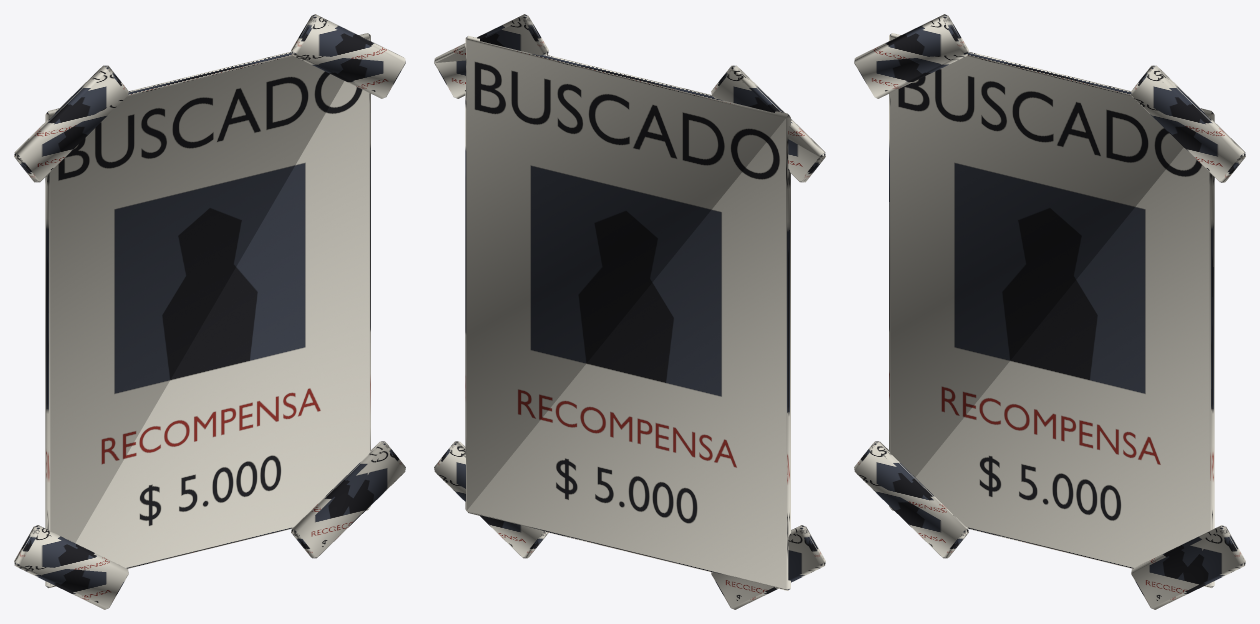
Rendered from Cartel_Buscado.fbx.
3 views of the same model, side by side, from view 1: azimuth 30°, elevation 25°; view 2: azimuth 150°, elevation 25°; view 3: azimuth 330°, elevation 25° (orthographic).
Visible parts, largest first — view 1: Cartel_Buscado; view 2: Cartel_Buscado; view 3: Cartel_Buscado.
Boxes of the visible parts, x1,y1,x2,y2 form: Cartel_Buscado: (14, 14, 405, 609); Cartel_Buscado: (434, 14, 825, 609); Cartel_Buscado: (854, 14, 1245, 609).
Size of the model in its own units: 2.39 by 3.18 by 0.07.
